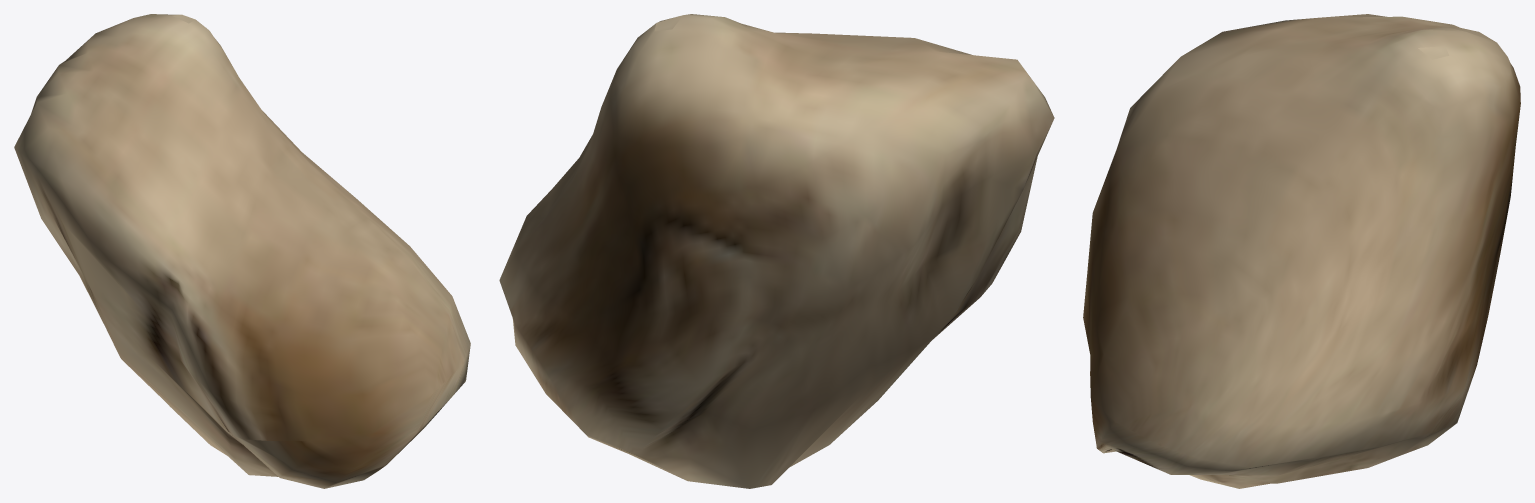
The model's file is Maxilary_Premolar2.glb.
3 renders of one model, left to right at view 1: azimuth 30°, elevation 25°; view 2: azimuth 150°, elevation 25°; view 3: azimuth 270°, elevation 25°, orthographic. The views are drawn at different scales.
Visible parts, largest first — view 1: Premolar8; view 2: Premolar8; view 3: Premolar8.
Boxes of the visible parts, x1=… form: Premolar8: x1=14, y1=14, x2=470, y2=488; Premolar8: x1=499, y1=14, x2=1054, y2=488; Premolar8: x1=1083, y1=14, x2=1520, y2=488.
Size of the model in its own units: 0.0258 by 0.0253 by 0.0236.
Materials: 1 (1 with a texture image).
